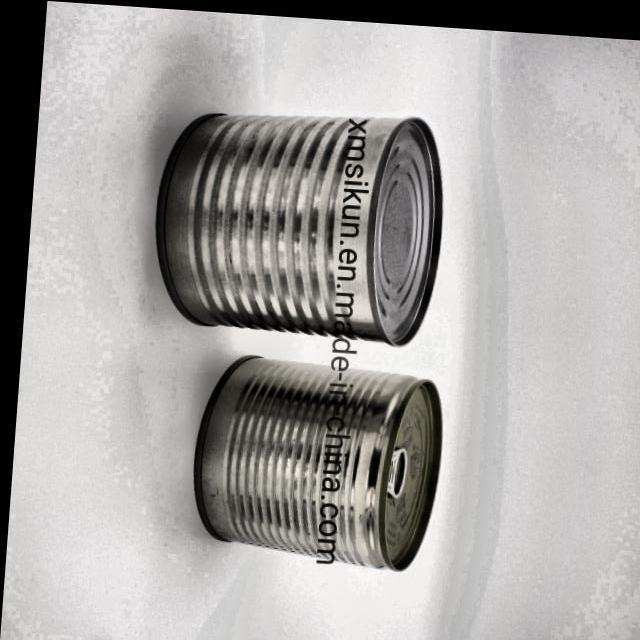litter: (141, 94, 446, 346), (182, 346, 446, 572)
